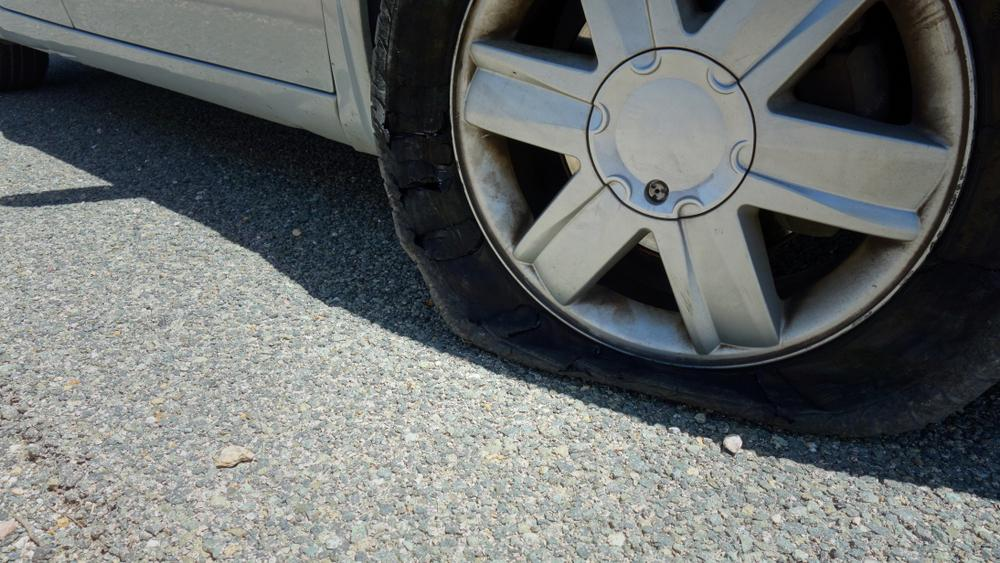tire flat: (371, 0, 1000, 440)
